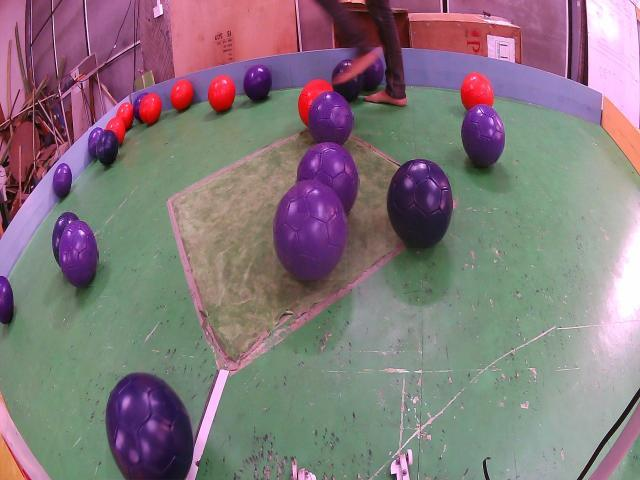jambhalya: (273, 180, 347, 280), (297, 142, 359, 213), (461, 105, 505, 166), (308, 90, 353, 145), (60, 221, 98, 286), (244, 65, 272, 100), (53, 164, 72, 198), (0, 275, 13, 323), (89, 127, 104, 158), (133, 92, 147, 123)
kaalyya: (106, 374, 194, 480), (386, 160, 454, 248), (53, 211, 79, 266), (334, 73, 364, 102), (97, 130, 119, 166), (333, 59, 352, 79)
